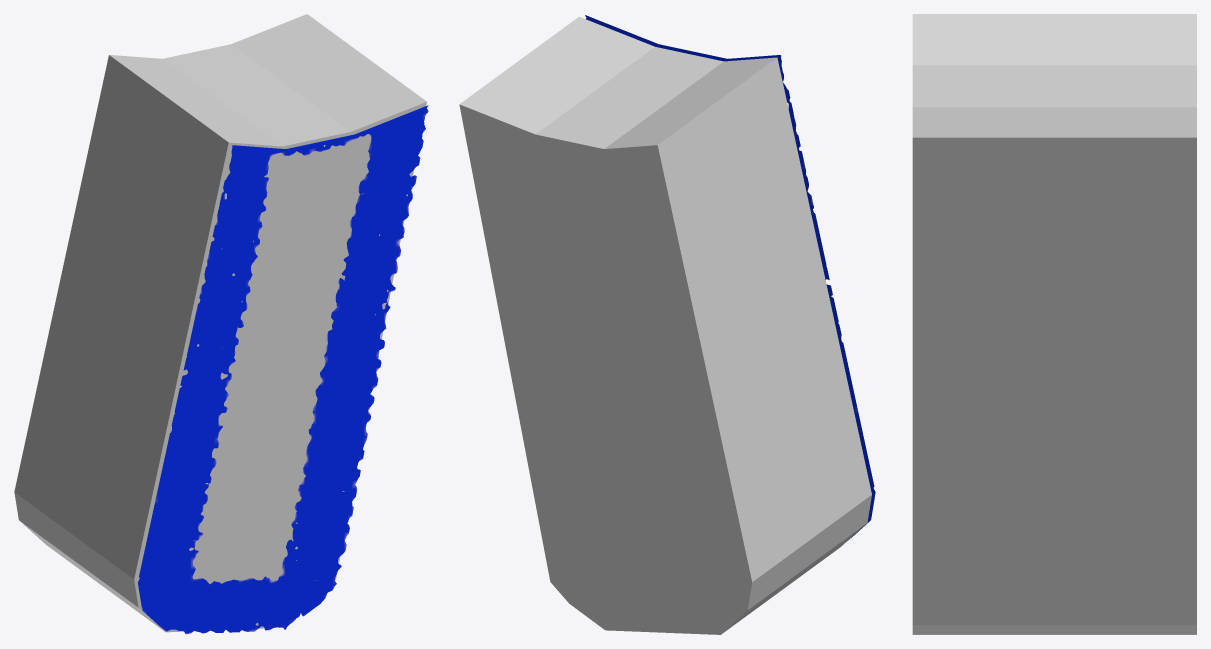
3 views of the same model, side by side, from view 1: azimuth 30°, elevation 25°; view 2: azimuth 150°, elevation 25°; view 3: azimuth 270°, elevation 25° (orthographic). The views are drawn at different scales.
Visible parts, largest first — view 1: In_12_0, In_12_1; view 2: In_12_0, In_12_1; view 3: In_12_0.
Boxes of the visible parts, x1,y1,x2,y2 form: In_12_0: (14,14,426,632); In_12_1: (137,105,428,634); In_12_0: (459,16,871,634); In_12_1: (585,15,875,540); In_12_0: (912,14,1196,634).
Bounding box in the file's own units: 0.7059 × 1.15 × 0.515.
2 materials, 1 textured.
